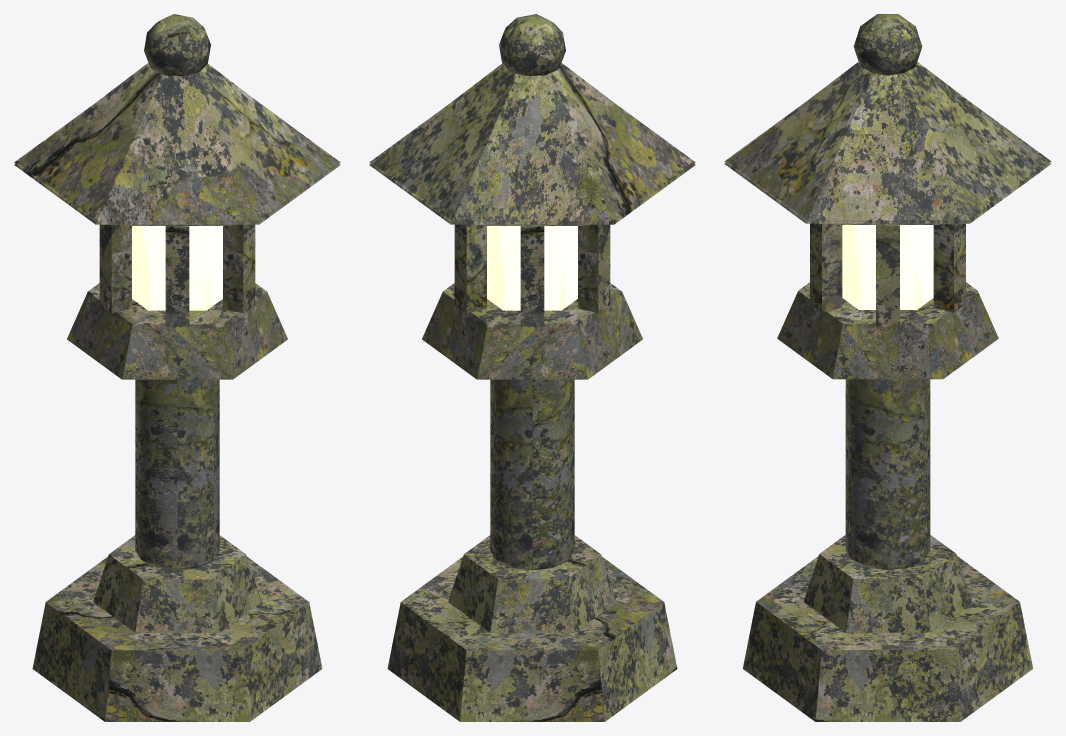
Rendered from StoneLantern.fbx.
3 views of the same model, side by side, from view 1: azimuth 30°, elevation 25°; view 2: azimuth 150°, elevation 25°; view 3: azimuth 270°, elevation 25° (orthographic).
Visible parts, largest first — view 1: StoneLantern_LOD0; view 2: StoneLantern_LOD0; view 3: StoneLantern_LOD0.
Boxes of the visible parts, left/top/right/bottom form: StoneLantern_LOD0: left=14, top=14, right=340, bottom=721; StoneLantern_LOD0: left=369, top=14, right=695, bottom=721; StoneLantern_LOD0: left=724, top=14, right=1051, bottom=721.
Size of what is drawn, in the model's own units: 1.07 by 2.73 by 1.24.
